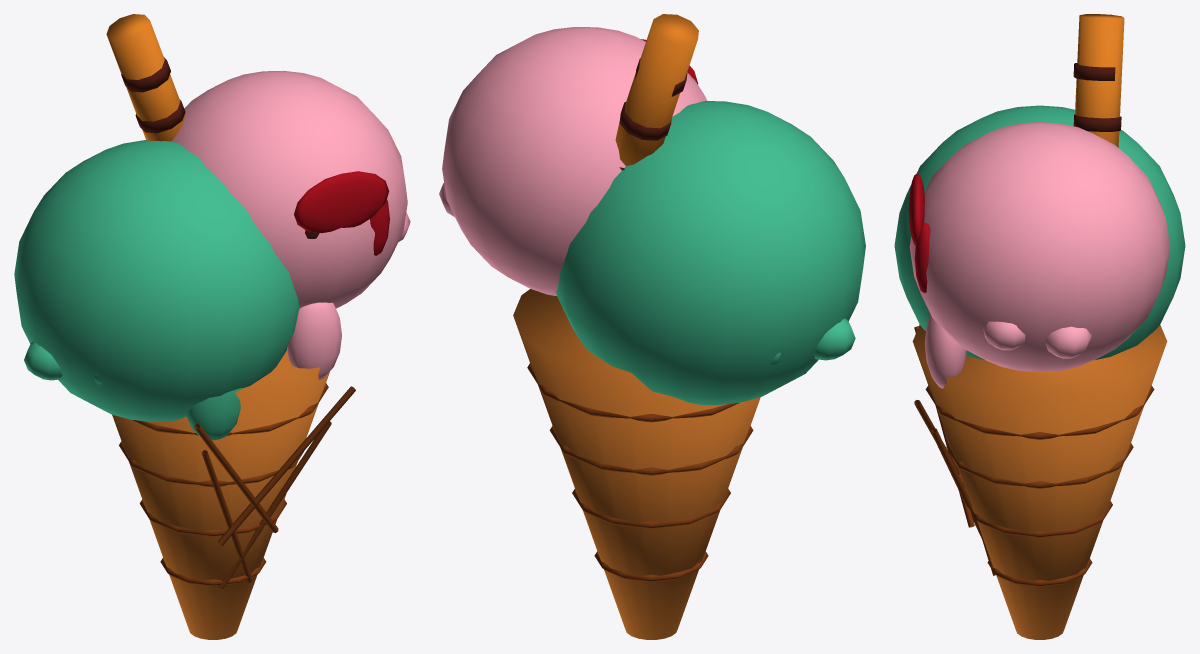
Rendered from icecream.fbx.
3 renders of one model, left to right at view 1: azimuth 30°, elevation 25°; view 2: azimuth 150°, elevation 25°; view 3: azimuth 270°, elevation 25°, orthographic. The views are drawn at different scales.
Parts seen in each view (by area): view 1: icecream; view 2: icecream; view 3: icecream.
Part boxes in pixels (box(x1,y1,x2,y2)): icecream: box(14, 14, 410, 639); icecream: box(439, 14, 865, 639); icecream: box(894, 14, 1185, 639).
Bounding box in the file's own units: 63.77 × 100 × 44.43.
1 material, 1 textured.
